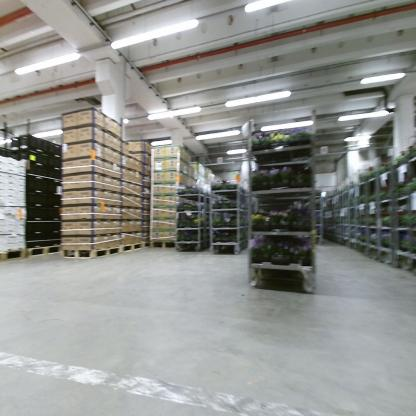pallet: (58, 245, 122, 259), (25, 242, 62, 260), (1, 246, 28, 262), (121, 239, 142, 256), (149, 239, 178, 249), (141, 240, 153, 251)
small_load_carrier: (18, 134, 49, 156), (22, 149, 47, 171), (23, 218, 49, 238), (25, 178, 50, 197), (25, 192, 50, 210), (25, 205, 48, 223), (47, 165, 65, 188), (26, 167, 48, 183), (47, 139, 65, 158), (47, 176, 65, 194), (47, 220, 64, 239), (11, 134, 24, 153), (47, 193, 64, 207), (47, 156, 64, 169), (47, 207, 63, 220)
